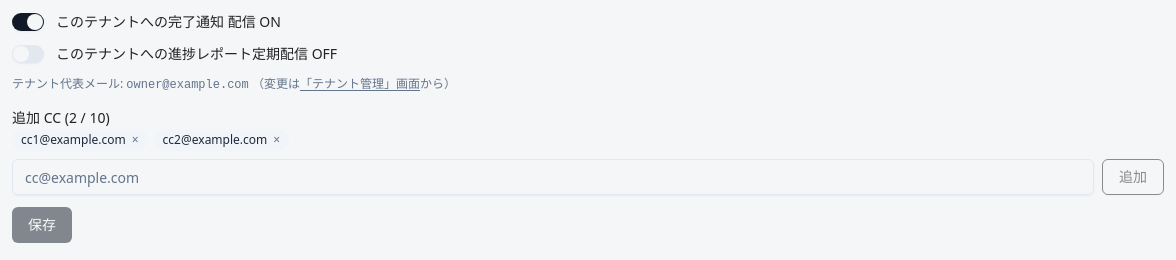
Test case: TenantCcForm › 差分が無いと保存ボタンは disable、差分があると enable
The image size is (1176, 260).
Check: the text "cc1@example.com" is shown, box [21,131,126,148]
Check: the button "保存" is disabled, box [12,207,72,243]
Note: 1 件削除で dirty
What coordinates should you click on to do the following:
click the button named "cc2@example.com を削除"
I would click on:
 (277, 140)
Its box is [273,132,280,148].
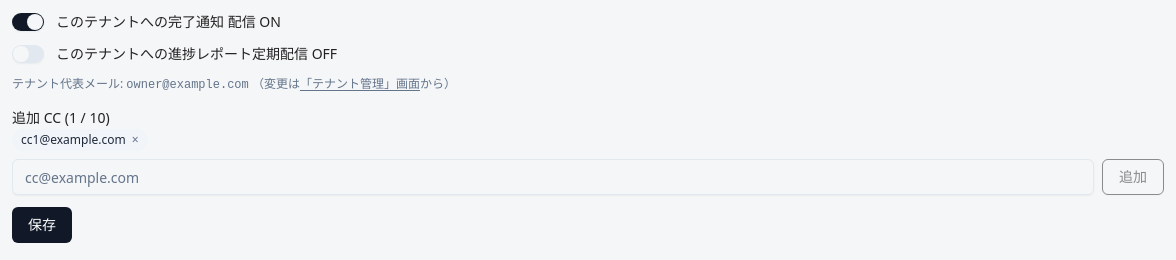
Check: the button "保存" is enabled, box [12,207,72,243]
